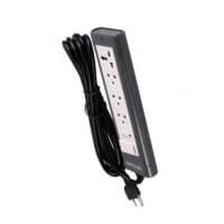three_eye_plug: (88, 23, 161, 180)
